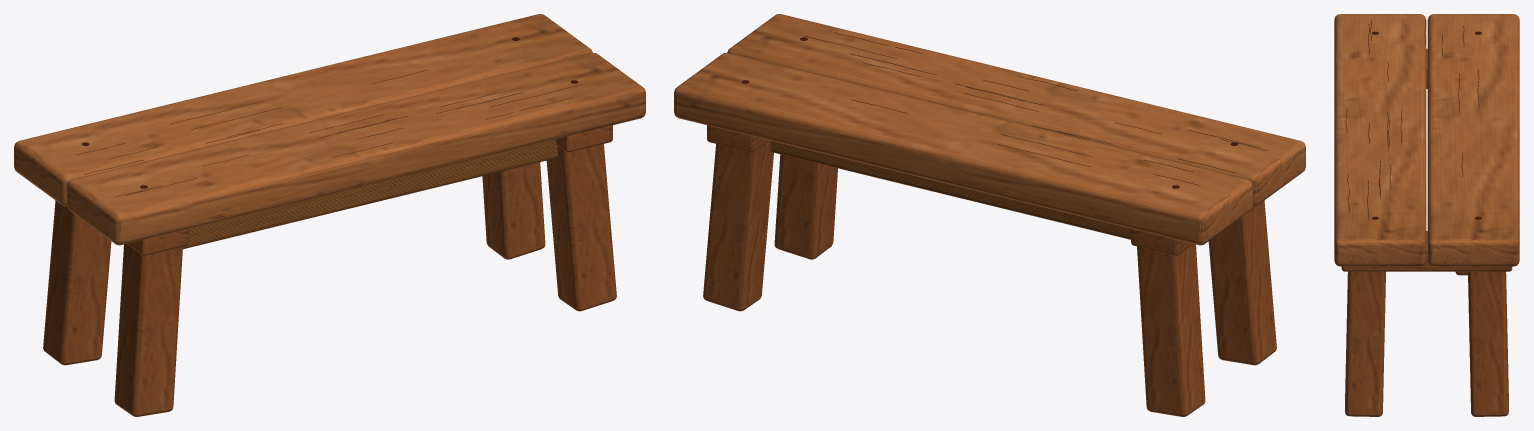
The model's file is bench.glb.
3 renders of one model, left to right at view 1: azimuth 30°, elevation 25°; view 2: azimuth 150°, elevation 25°; view 3: azimuth 270°, elevation 25°, orthographic. The views are drawn at different scales.
Visible parts, largest first — view 1: bench-mesh; view 2: bench-mesh; view 3: bench-mesh.
Part boxes in pixels (x1,y1,x2,y2): bench-mesh: (14,14,645,416); bench-mesh: (674,14,1305,416); bench-mesh: (1334,14,1519,416).
Bounding box in the file's own units: 1.68 × 0.6558 × 0.575.
Materials: 5 (5 with a texture image).
